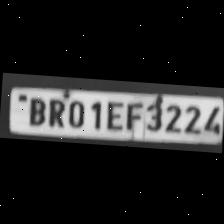0: (63, 97, 87, 128)
1: (84, 96, 104, 129)
2: (178, 100, 202, 133), (162, 100, 182, 132)
3: (141, 99, 163, 131)
4: (201, 102, 223, 134)
B: (23, 94, 47, 125)
E: (102, 98, 124, 130)
F: (122, 98, 142, 129)
R: (44, 95, 64, 127)
